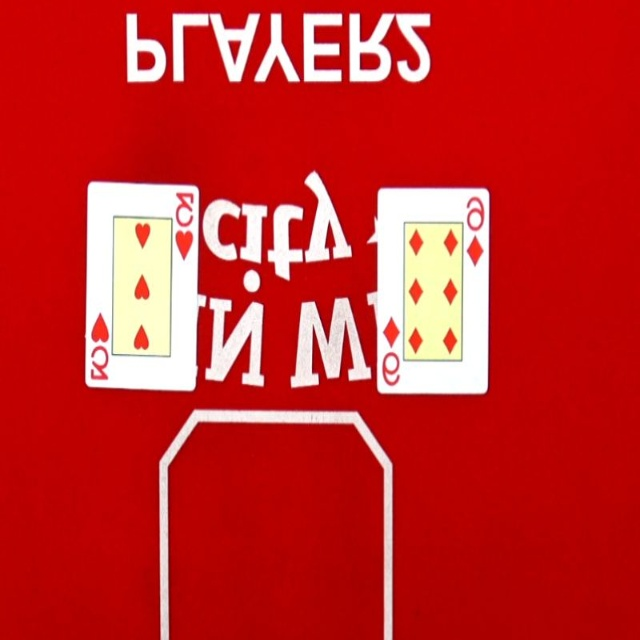3H: (171, 187, 199, 261), (85, 310, 111, 384)
6D: (378, 315, 404, 393), (464, 193, 490, 269)
